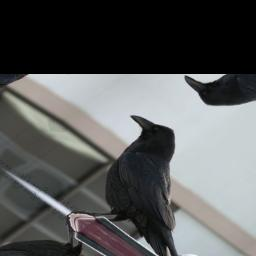Crow: (32, 107, 256, 256)
